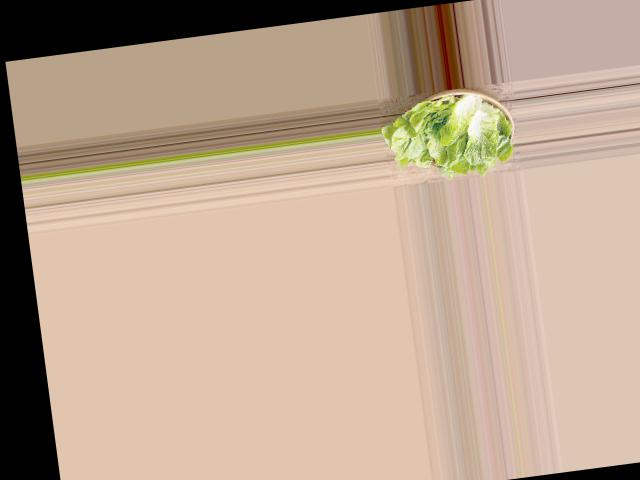lettuce: (379, 82, 524, 183)
